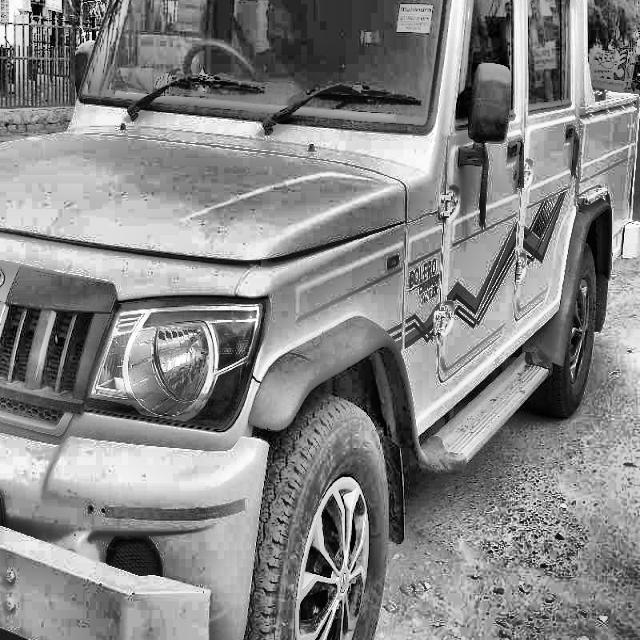light_vehicle: (0, 0, 627, 633)
